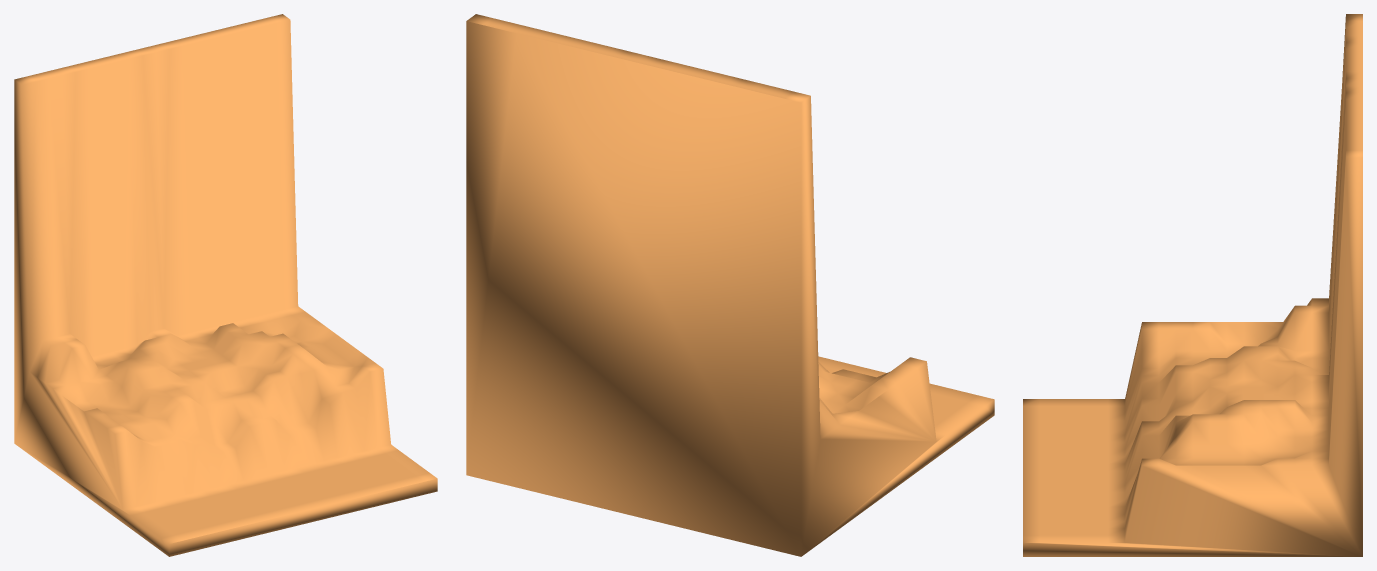
Rendered from right3.fbx.
3 views of the same model, side by side, from view 1: azimuth 30°, elevation 25°; view 2: azimuth 150°, elevation 25°; view 3: azimuth 270°, elevation 25° (orthographic). The views are drawn at different scales.
Parts seen in each view (by area): view 1: Model; view 2: Model; view 3: Model.
Part boxes in pixels (left/top/right/bottom): Model: left=14, top=14, right=437, bottom=556; Model: left=466, top=14, right=994, bottom=556; Model: left=1023, top=14, right=1362, bottom=556.
Bounding box in the file's own units: 1000 × 1398 × 1000.
